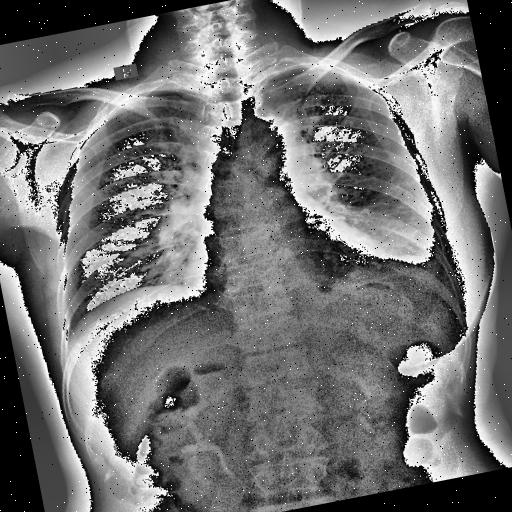0- Aortic enlargement: (242, 110, 302, 166), (242, 110, 302, 159)
10- Pleural effusion: (421, 246, 456, 290), (419, 232, 447, 268)
11- Pleural thickening: (421, 246, 456, 290), (419, 232, 447, 268)
3- Cardiomegaly: (179, 226, 394, 314), (178, 217, 388, 301)
